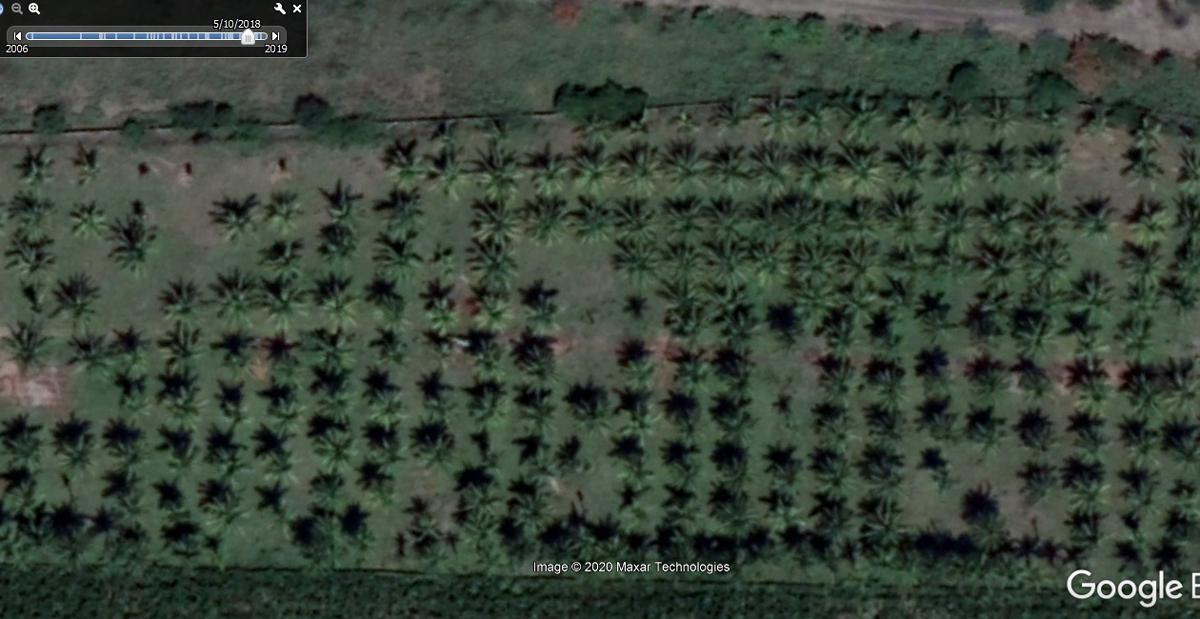coconut: (303, 282, 371, 331), (3, 322, 58, 378), (1023, 240, 1072, 299), (936, 199, 983, 259), (247, 418, 303, 468), (455, 478, 507, 531), (564, 386, 616, 439), (502, 486, 555, 537), (526, 199, 571, 259), (706, 241, 756, 295), (883, 200, 932, 255), (701, 87, 757, 135), (884, 137, 931, 194), (604, 239, 657, 289), (369, 231, 424, 279), (525, 141, 570, 199), (303, 508, 356, 557), (53, 279, 107, 327), (303, 325, 360, 370), (212, 195, 262, 246), (568, 139, 611, 198), (0, 195, 57, 239), (1020, 196, 1070, 246), (1014, 307, 1062, 358), (1126, 313, 1174, 364), (614, 139, 661, 191), (766, 199, 819, 245), (430, 143, 473, 199), (205, 276, 254, 325), (514, 439, 560, 491), (661, 244, 707, 296), (479, 145, 523, 199), (791, 145, 838, 195), (416, 429, 466, 476), (374, 149, 425, 195), (516, 332, 560, 385), (364, 273, 411, 322), (979, 198, 1020, 254), (260, 325, 305, 376), (1115, 367, 1160, 418), (470, 289, 523, 332), (1065, 466, 1109, 517), (88, 468, 142, 509), (208, 323, 254, 371), (40, 517, 85, 566), (512, 390, 557, 439), (704, 195, 742, 253), (746, 139, 786, 194), (841, 198, 881, 253), (2, 422, 53, 465), (160, 519, 207, 565), (658, 202, 705, 248), (804, 491, 851, 537), (863, 399, 914, 441), (866, 496, 909, 545), (257, 236, 307, 278), (661, 140, 701, 192), (963, 499, 1008, 545), (111, 223, 158, 267), (259, 189, 303, 236), (101, 319, 145, 366), (810, 358, 857, 402), (859, 444, 909, 485), (939, 145, 979, 196), (661, 391, 712, 431), (57, 418, 95, 471), (2, 234, 53, 273), (553, 519, 604, 558), (475, 250, 520, 294), (152, 425, 195, 471), (1128, 208, 1174, 251), (1116, 481, 1162, 524), (1122, 244, 1164, 291), (362, 422, 410, 463), (473, 209, 521, 250), (205, 421, 244, 471), (627, 335, 666, 385), (396, 509, 453, 543), (465, 386, 509, 430), (1027, 135, 1069, 181), (257, 275, 299, 321), (254, 472, 295, 519), (709, 140, 746, 192), (371, 381, 411, 429), (1074, 271, 1114, 319), (841, 87, 880, 136), (256, 377, 305, 416), (307, 426, 360, 462), (315, 381, 358, 425), (157, 376, 202, 418), (197, 477, 242, 519), (842, 139, 879, 190), (208, 377, 259, 414), (757, 87, 793, 139), (573, 196, 612, 244), (705, 440, 753, 479), (371, 190, 420, 228), (1123, 139, 1160, 189), (1163, 362, 1200, 412), (673, 341, 715, 385), (1145, 530, 1191, 570), (3, 477, 54, 513), (834, 246, 881, 285), (624, 389, 663, 436), (970, 349, 1009, 396), (914, 284, 947, 339), (661, 299, 704, 341), (892, 95, 933, 139), (1014, 404, 1059, 444), (1077, 199, 1111, 251), (98, 419, 142, 459), (666, 436, 710, 476), (960, 296, 1004, 336), (981, 140, 1019, 186), (760, 239, 792, 293), (161, 323, 201, 366), (719, 300, 759, 343), (809, 399, 852, 439), (464, 335, 503, 379), (771, 295, 806, 344), (160, 276, 198, 321), (1072, 322, 1105, 373), (425, 381, 466, 422), (980, 257, 1019, 300), (712, 394, 756, 432), (1123, 426, 1162, 468), (801, 246, 839, 289), (938, 87, 972, 135), (704, 486, 748, 522), (313, 189, 365, 219), (714, 340, 753, 380), (932, 448, 965, 495), (151, 476, 187, 519), (1077, 399, 1106, 452), (768, 441, 802, 486), (1063, 521, 1108, 555), (814, 449, 850, 491), (1165, 268, 1200, 311), (920, 399, 957, 439), (612, 431, 648, 472), (320, 222, 352, 268), (81, 503, 120, 540), (303, 467, 348, 499), (1129, 110, 1170, 145), (430, 290, 460, 337), (614, 479, 650, 518), (120, 532, 161, 566), (616, 285, 653, 322), (1022, 359, 1057, 398), (71, 145, 103, 187), (1085, 96, 1113, 144), (919, 343, 955, 380), (869, 362, 904, 400), (869, 304, 901, 345), (829, 309, 859, 352), (67, 200, 100, 239), (804, 95, 834, 137), (371, 325, 405, 362), (1026, 459, 1059, 496), (71, 337, 102, 376), (111, 373, 145, 408), (1034, 99, 1067, 135), (617, 199, 650, 235), (973, 406, 1005, 443), (1173, 471, 1200, 513), (987, 96, 1015, 135), (757, 490, 798, 516), (26, 156, 57, 190), (658, 485, 697, 511), (1172, 427, 1200, 460), (1174, 198, 1200, 229), (1182, 149, 1200, 180)
